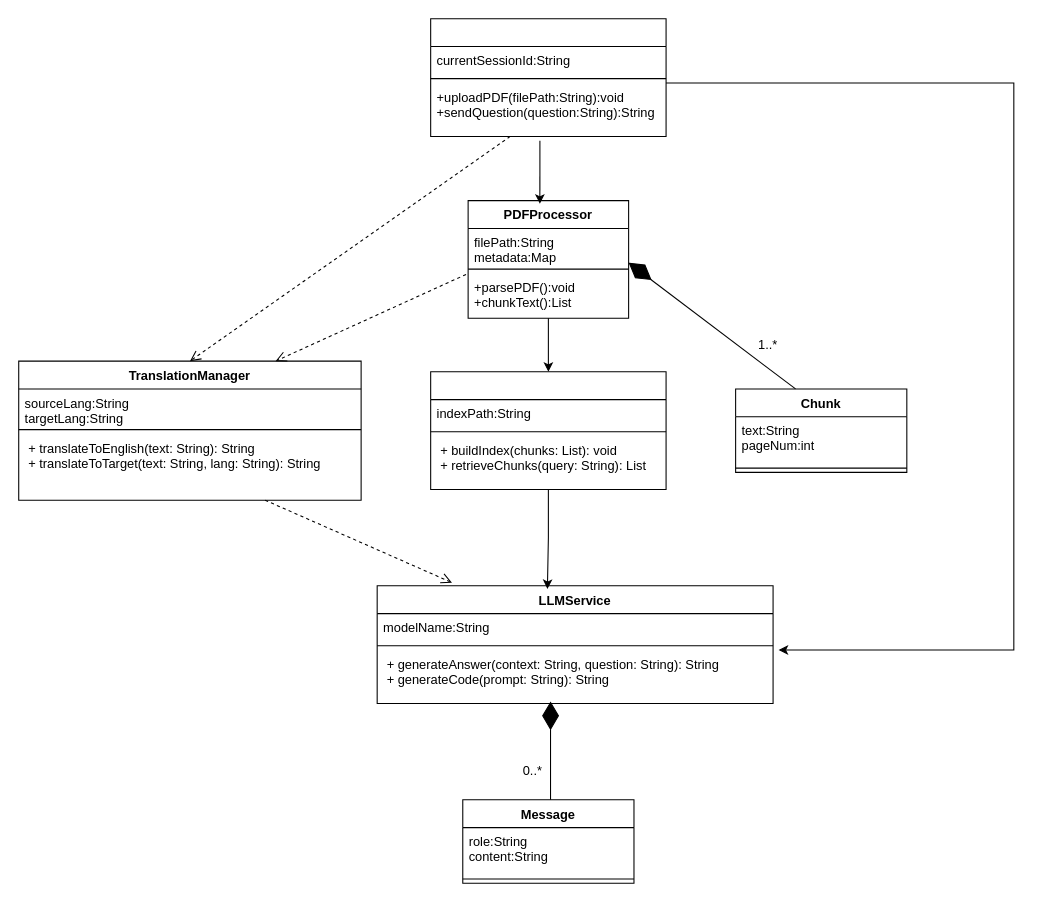
This 1041x902 diagram has some shape labels left out. Here are the shapes that lost their labels. From the top down, the box of each, then its label:
(430, 18, 666, 136): FronendHandler
(430, 371, 666, 490): FAISSIndexManager
